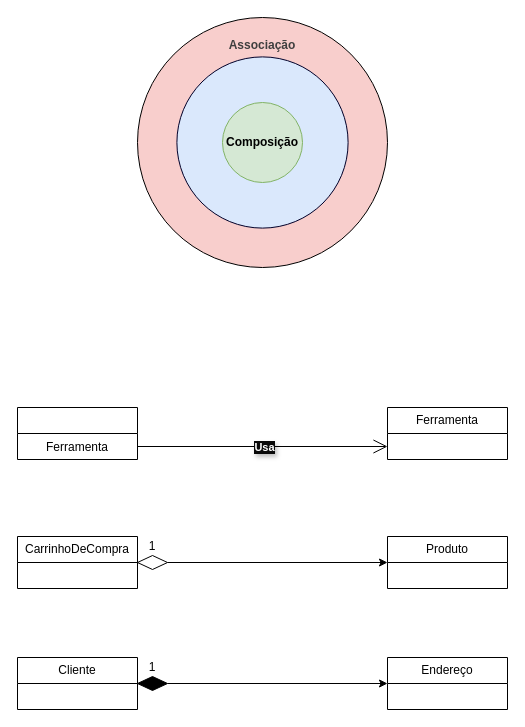
Image size: 525x727. Some labels were removed from this diagram. Each missing label, with the box of its shape:
Agregação: (176, 56, 348, 228)
Escritor: (16, 406, 138, 460)
